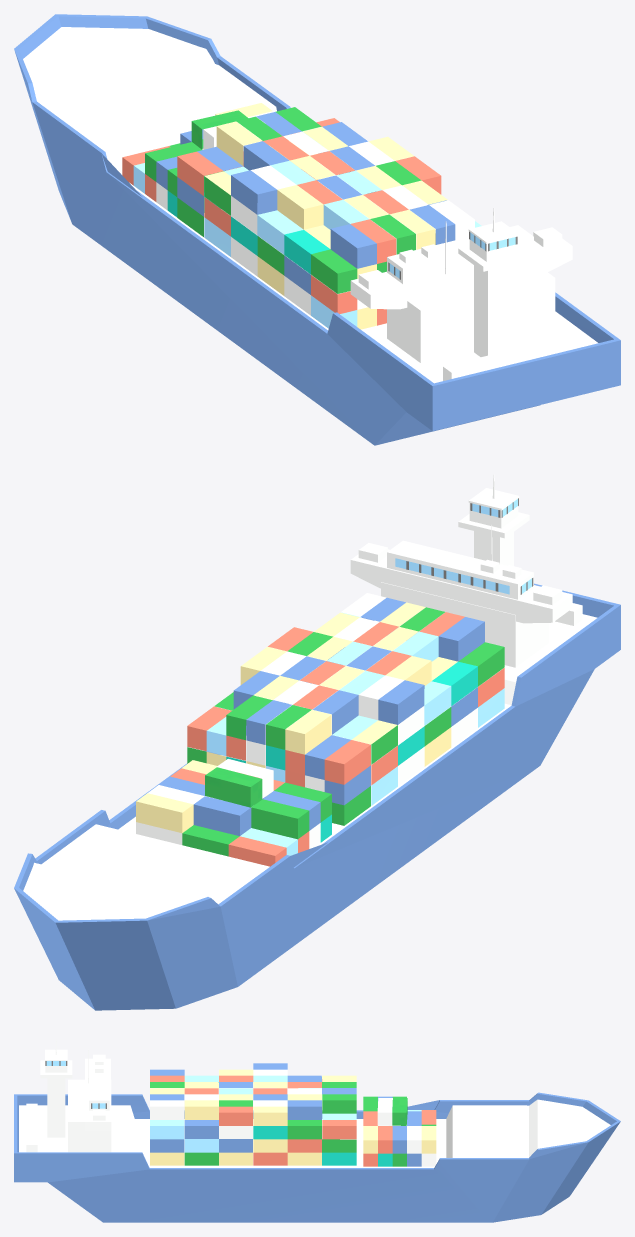
The model's file is transport_water.004.glb.
3 renders of one model, top to bottom at view 1: azimuth 30°, elevation 25°; view 2: azimuth 150°, elevation 25°; view 3: azimuth 270°, elevation 25°, orthographic. The views are drawn at different scales.
Parts seen in each view (by area): view 1: transport_water.004(Clone); view 2: transport_water.004(Clone); view 3: transport_water.004(Clone).
Part boxes in pixels (box(x1,y1,x2,y2)): transport_water.004(Clone): box(14, 14, 620, 445); transport_water.004(Clone): box(14, 474, 620, 1010); transport_water.004(Clone): box(14, 1039, 620, 1222).
Bounding box in the file's own units: 12.01 × 13.87 × 48.52.
1 material, 1 textured.
